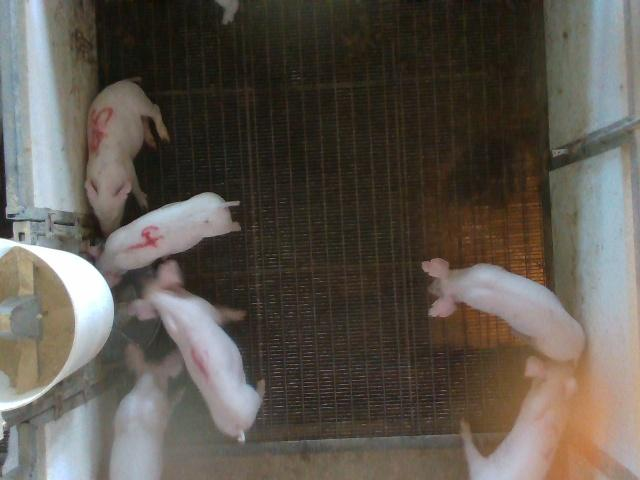pig-1: (128, 260, 265, 441)
pig-2: (461, 356, 576, 479)
pig-4: (96, 192, 240, 286)
pig-5: (85, 79, 169, 236)
